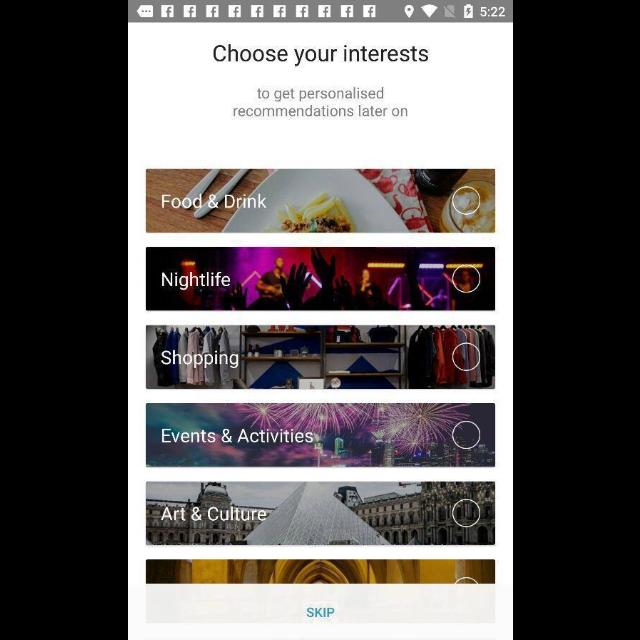checkbox: (452, 498, 481, 528), (452, 187, 481, 216), (452, 342, 480, 372), (452, 265, 480, 293), (452, 421, 480, 449)
image: (145, 403, 495, 467), (146, 169, 494, 233), (146, 247, 494, 311), (146, 325, 494, 389), (146, 482, 494, 546), (146, 560, 494, 584)
text: (212, 44, 428, 68), (233, 88, 407, 116), (161, 428, 313, 444), (160, 506, 266, 522), (160, 350, 238, 370), (160, 195, 268, 209), (162, 271, 230, 291), (306, 608, 334, 618)
textbutton: (306, 608, 334, 618)
uppertaskbar: (128, 1, 512, 23)
